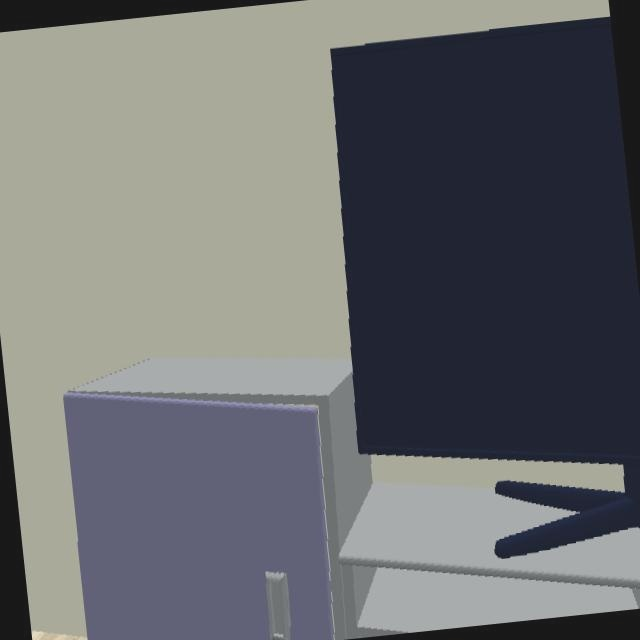cabinet: (63, 359, 640, 640)
monitor: (331, 17, 640, 556)
